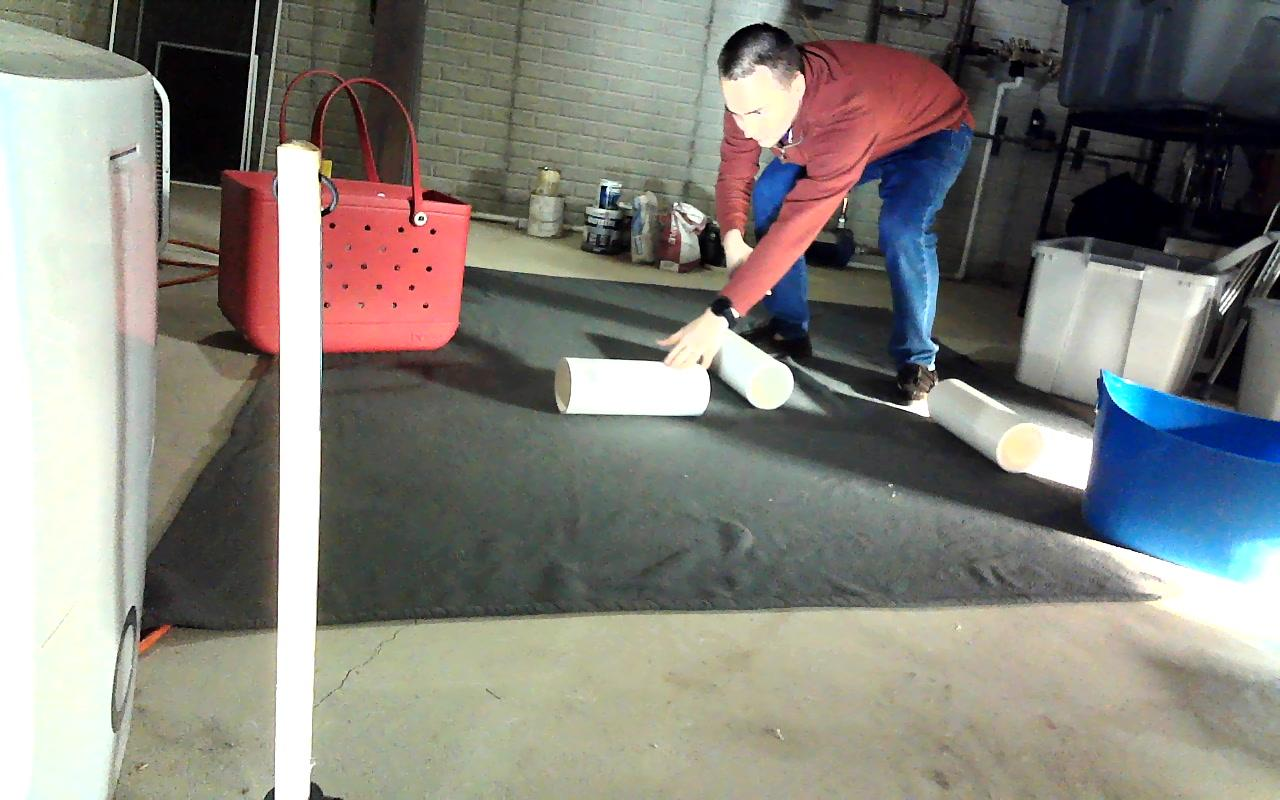coral: (928, 378, 1044, 471), (555, 356, 708, 417), (716, 325, 792, 408)
